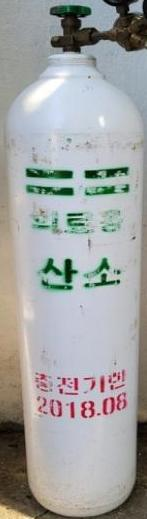cylinder: (1, 1, 147, 519)
